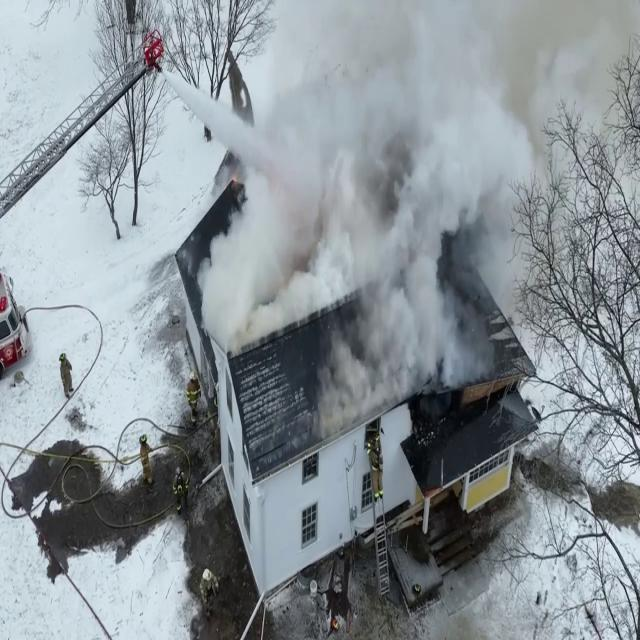Smoke: (188, 0, 568, 404)
